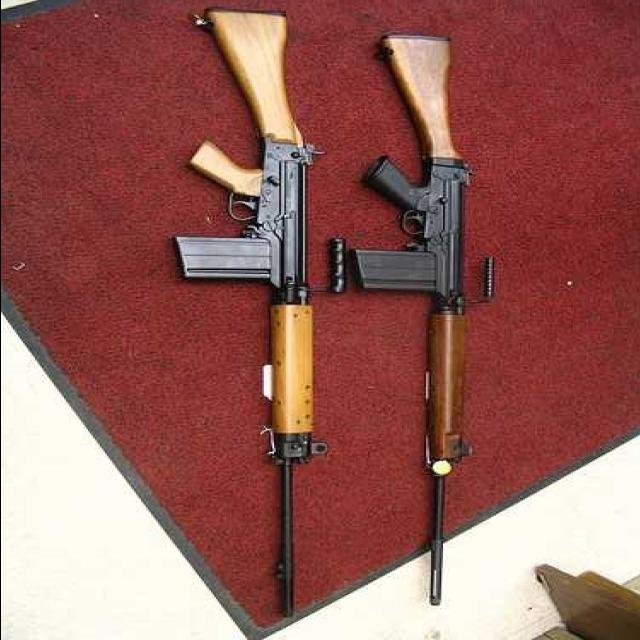heavyweapon: (332, 27, 501, 630), (177, 1, 329, 628)
